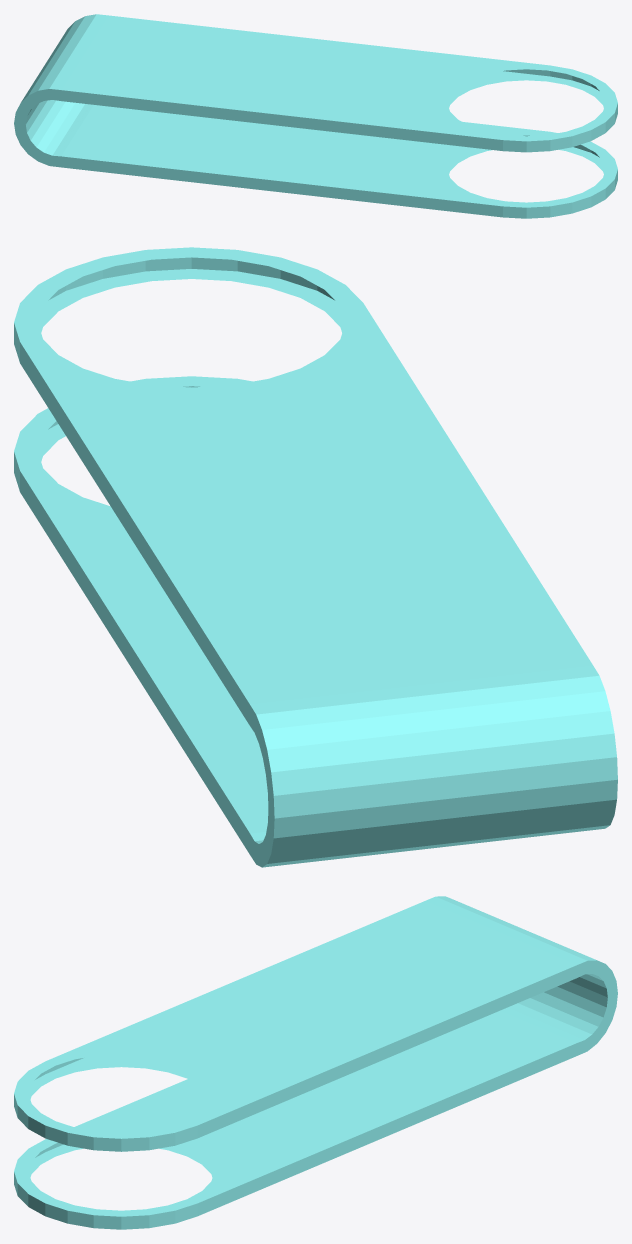
The model's file is original-12.obj.
The picture shows the model from 3 angles, top to bottom: view 1: azimuth 30°, elevation 25°; view 2: azimuth 150°, elevation 25°; view 3: azimuth 270°, elevation 25°; orthographic projection. The views are drawn at different scales.
Parts seen in each view (by area): view 1: #ID5; view 2: #ID5; view 3: #ID5.
Part boxes in pixels (x1,y1,x2,y2): #ID5: (14, 14, 617, 218); #ID5: (14, 247, 617, 867); #ID5: (14, 896, 617, 1229).
Size of the model in its own units: 1.05 by 0.1739 by 1.05.
